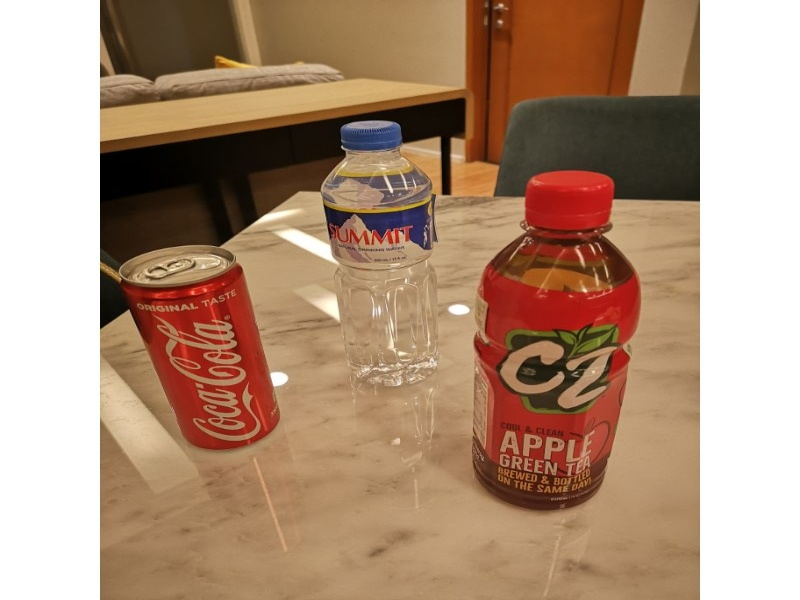PET #1: (467, 158, 638, 521), (323, 118, 447, 393)
